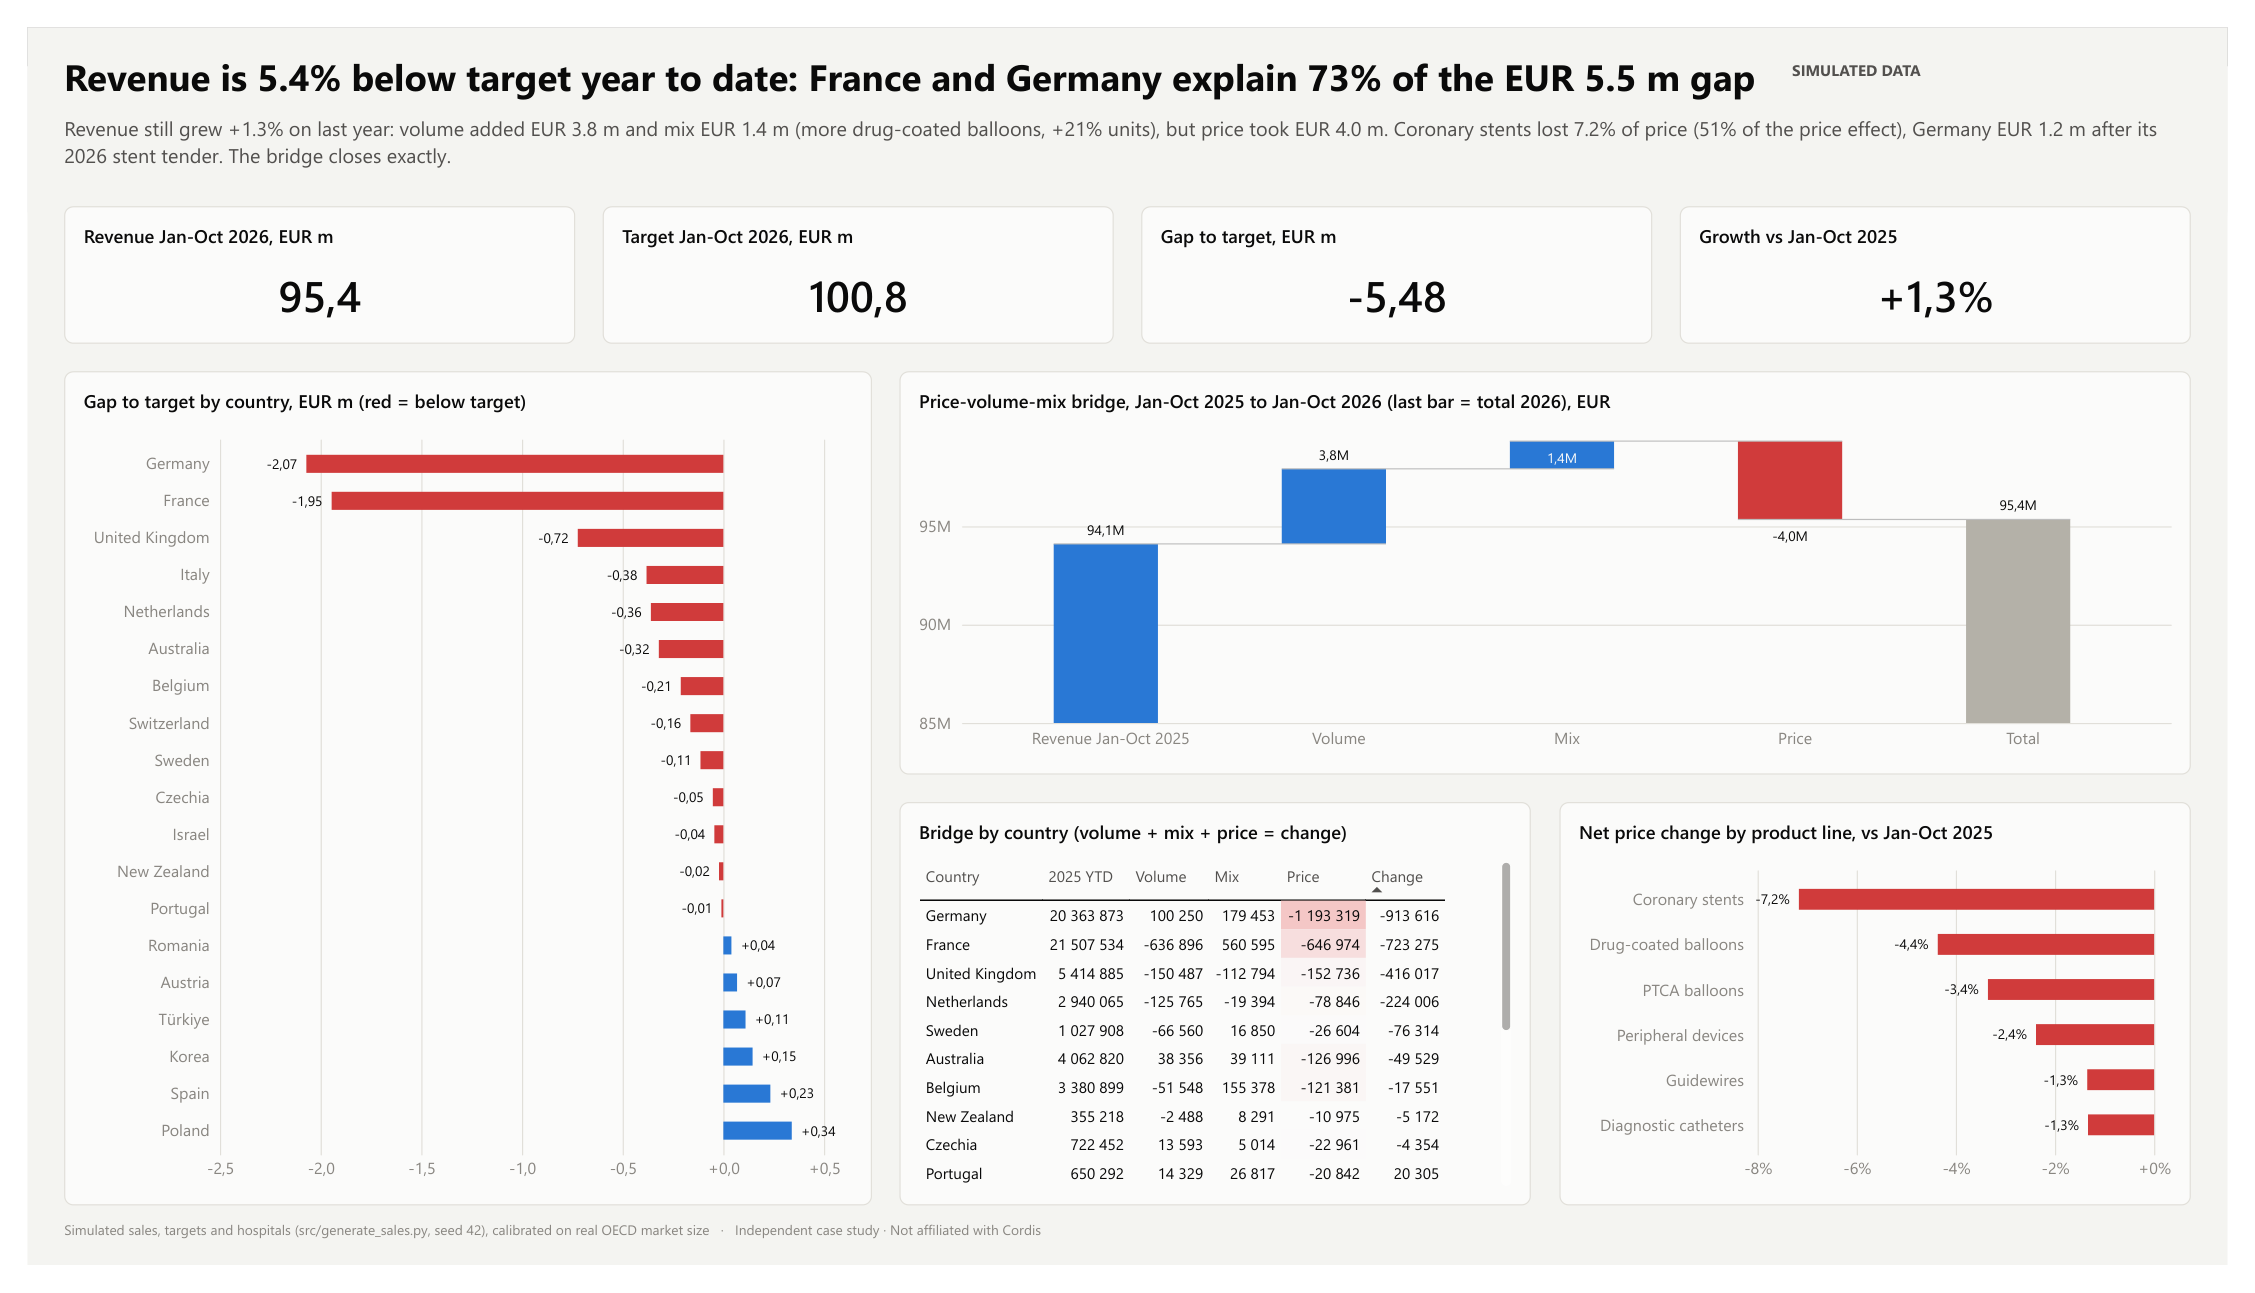

What the dashboard file says about the page in this screenshot:
{"tool":"powerbi","page":{"name":"2 · Sales performance","canvas":[1920,1080],"ordinal":2},"visuals":[{"type":"textbox","box":[32,20,1500,56],"z":1000},{"type":"textbox","box":[1540,28,348,40],"z":2000},{"type":"textbox","box":[32,76,1856,64],"z":3000},{"type":"card","title":"Revenue Jan-Oct 2026, EUR m","fields":{"Values":["_Measures.Revenue YTD (EUR m)"]},"box":[32,156,446,120],"z":4000},{"type":"card","title":"Target Jan-Oct 2026, EUR m","fields":{"Values":["_Measures.Target YTD (EUR m)"]},"box":[502,156,446,120],"z":5000},{"type":"card","title":"Gap to target, EUR m","fields":{"Values":["_Measures.Gap to Target YTD (EUR m)"]},"box":[972,156,446,120],"z":6000},{"type":"card","title":"Growth vs Jan-Oct 2025","fields":{"Values":["_Measures.Revenue YTD Growth"]},"box":[1442,156,446,120],"z":7000},{"type":"clusteredBarChart","title":"Gap to target by country, EUR m (red = below target)","fields":{"Category":["Country.country"],"Y":["_Measures.Gap to Target YTD (EUR m)"]},"box":[32,300,705,728],"z":8000},{"type":"waterfallChart","title":"Price-volume-mix bridge, Jan-Oct 2025 to Jan-Oct 2026 (last bar = total 2026), EUR","fields":{"Category":["PVM Bridge.step"],"Y":["_Measures.Bridge Value"]},"box":[761,300,1127,352],"z":9000},{"type":"tableEx","title":"Bridge by country (volume + mix + price = change)","fields":{"Values":["PVM Country.country","PVM Country.revenue_ly","PVM Country.volume_effect","PVM Country.mix_effect","PVM Country.price_effect","PVM Country.total_change"]},"box":[761,676,551,352],"z":10000},{"type":"clusteredBarChart","title":"Net price change by product line, vs Jan-Oct 2025","fields":{"Category":["PVM Product.product_line"],"Y":["_Measures.Price Change by Line"]},"box":[1337,676,551,352],"z":11000},{"type":"textbox","box":[32,1040,1856,32],"z":12000}]}

Visuals, with their boxes in screenshot pixels (x1, y1, x2, y2), scaled from the page's 1920x1080 canvas onto the 2255x1293 screenshot:
textbox: <region>38, 24, 1799, 91</region>
textbox: <region>1809, 34, 2217, 81</region>
textbox: <region>38, 91, 2217, 168</region>
"Revenue Jan-Oct 2026, EUR m" card: <region>38, 187, 561, 330</region>
"Target Jan-Oct 2026, EUR m" card: <region>590, 187, 1113, 330</region>
"Gap to target, EUR m" card: <region>1142, 187, 1665, 330</region>
"Growth vs Jan-Oct 2025" card: <region>1694, 187, 2217, 330</region>
"Gap to target by country, EUR m (red = below target)" clusteredBarChart: <region>38, 359, 866, 1231</region>
"Price-volume-mix bridge, Jan-Oct 2025 to Jan-Oct 2026 (last bar = total 2026), EUR" waterfallChart: <region>894, 359, 2217, 781</region>
"Bridge by country (volume + mix + price = change)" tableEx: <region>894, 809, 1541, 1231</region>
"Net price change by product line, vs Jan-Oct 2025" clusteredBarChart: <region>1570, 809, 2217, 1231</region>
textbox: <region>38, 1245, 2217, 1283</region>
